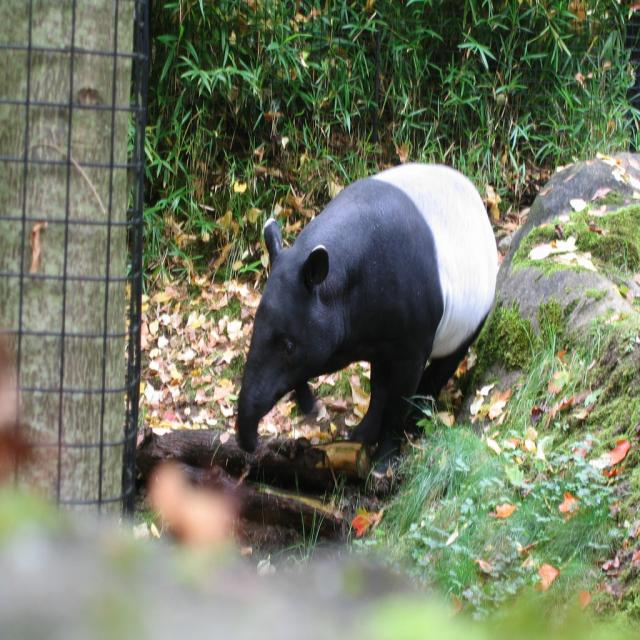Pig: (234, 161, 497, 498)
